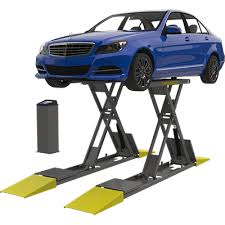Scissor Lift: (2, 80, 211, 215)
